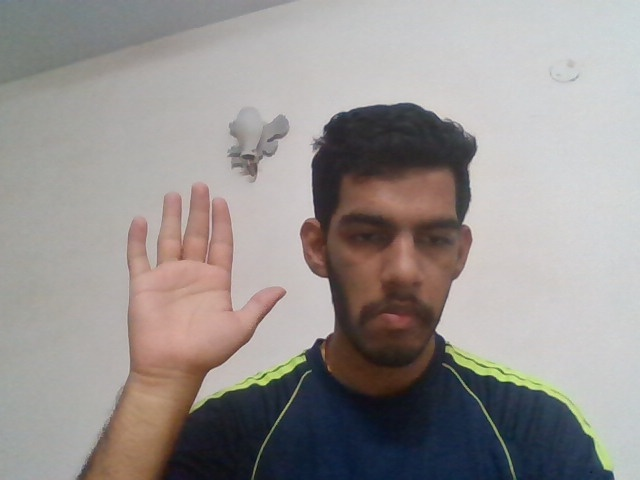hi: (115, 181, 300, 391)
